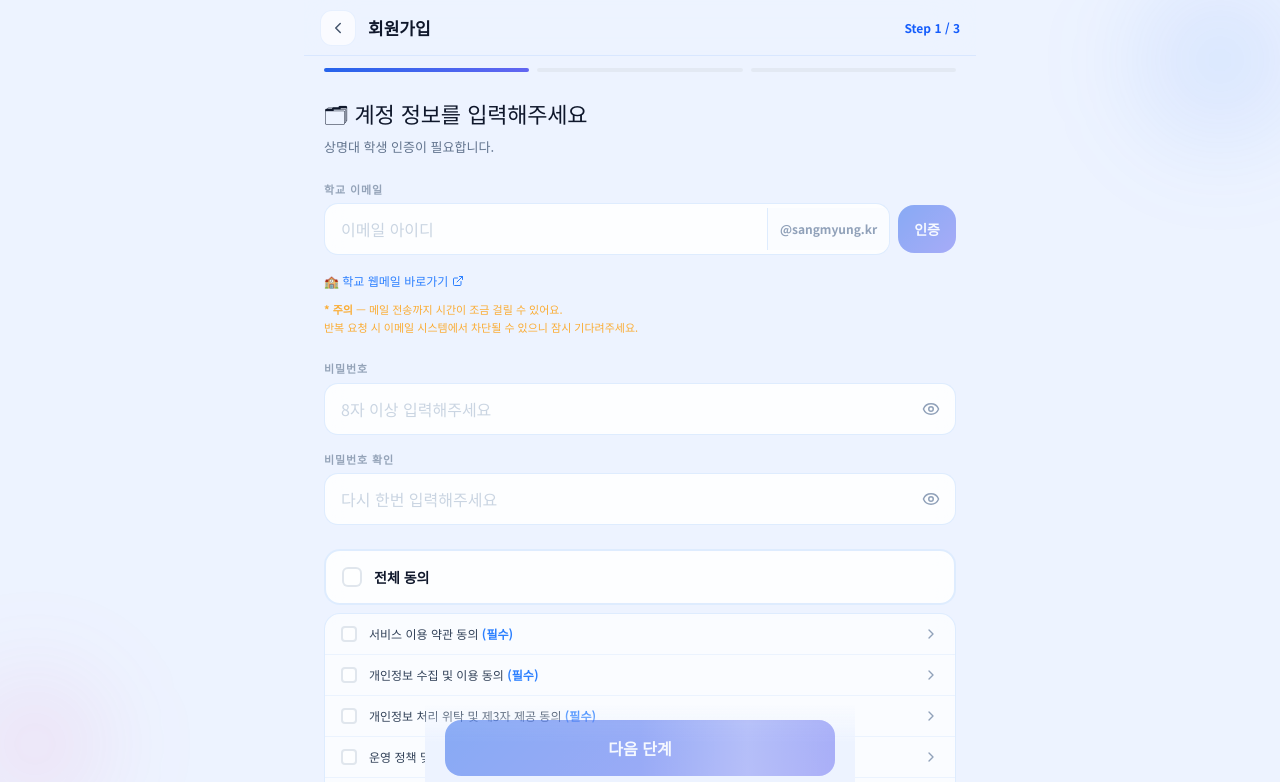
SignupPage › 비밀번호 확인 불일치 시 경고 메시지 표시
In the password field labelled "비밀번호": x=640, y=409 x1=324 y1=383 x2=956 y2=435, type "password123"
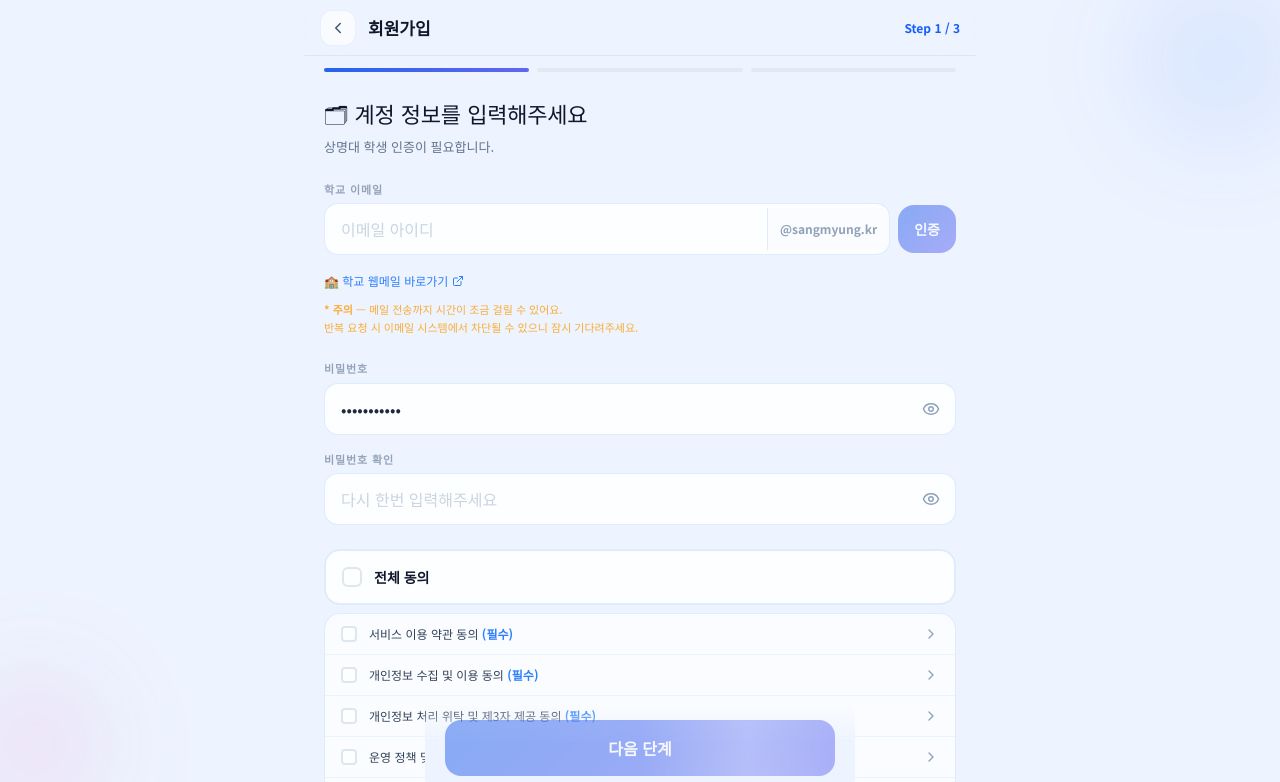
In the password field labelled "비밀번호 확인": x=640, y=499 x1=324 y1=473 x2=956 y2=525, type "different456"
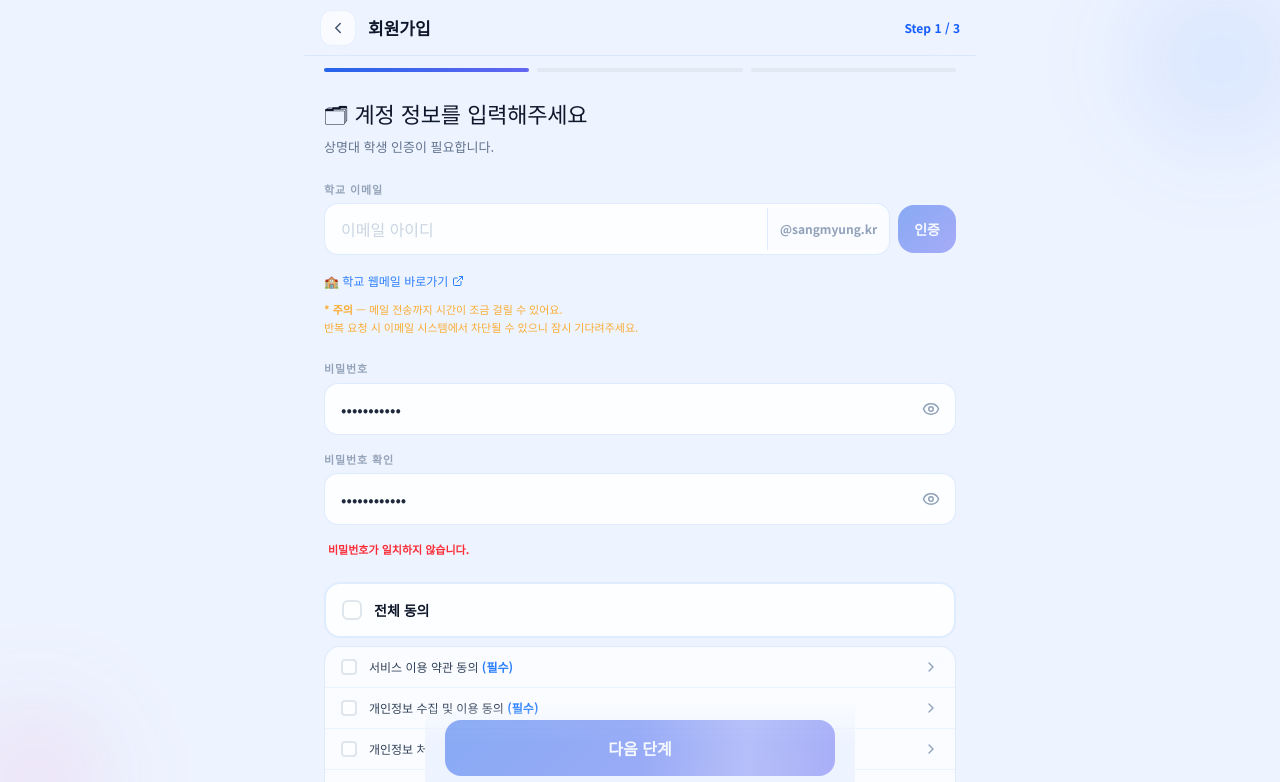
Result: the text "비밀번호가 일치하지 않습니다." is shown at x1=328 y1=541 x2=469 y2=558
